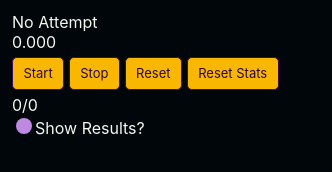
Scenario: answer › Timer test › Should start the timer
The width and height of the screenshot is (332, 172).
Click the button "Start": (38, 73) [12,57,64,90]
Wait 1568 ms
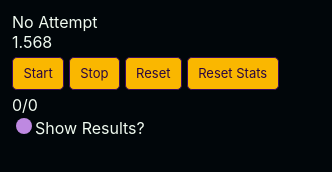
Expected: the text "1.568" is shown, [12,32,52,52]
